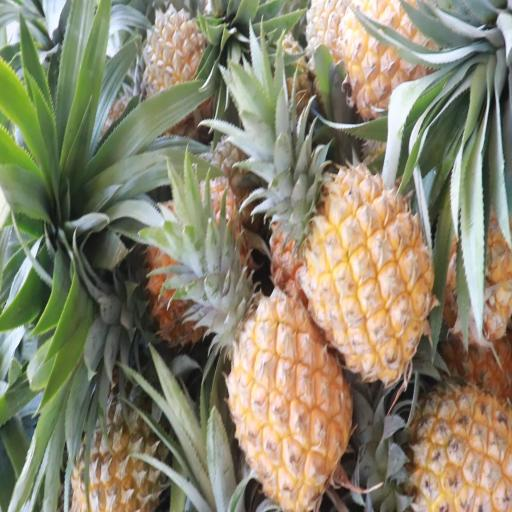Pineapple - v8 v1: (282, 164, 434, 380), (220, 288, 354, 508), (386, 350, 512, 512), (80, 322, 170, 512)
